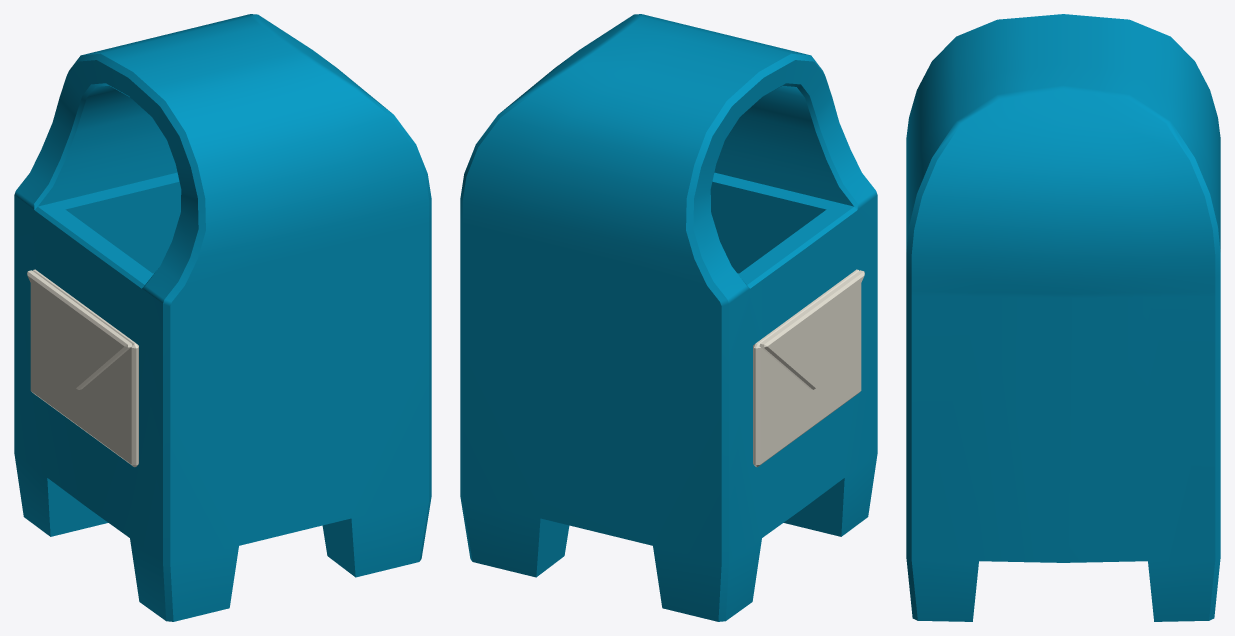
The model's file is mailbox.fbx.
3 renders of one model, left to right at view 1: azimuth 30°, elevation 25°; view 2: azimuth 150°, elevation 25°; view 3: azimuth 270°, elevation 25°, orthographic. The views are drawn at different scales.
Parts seen in each view (by area): view 1: mailbox; view 2: mailbox; view 3: mailbox.
Part boxes in pixels (x1,y1,x2,y2): mailbox: [14, 14, 431, 621]; mailbox: [460, 14, 877, 621]; mailbox: [906, 14, 1220, 621].
Bounding box in the file's own units: 116 × 188 × 107.
